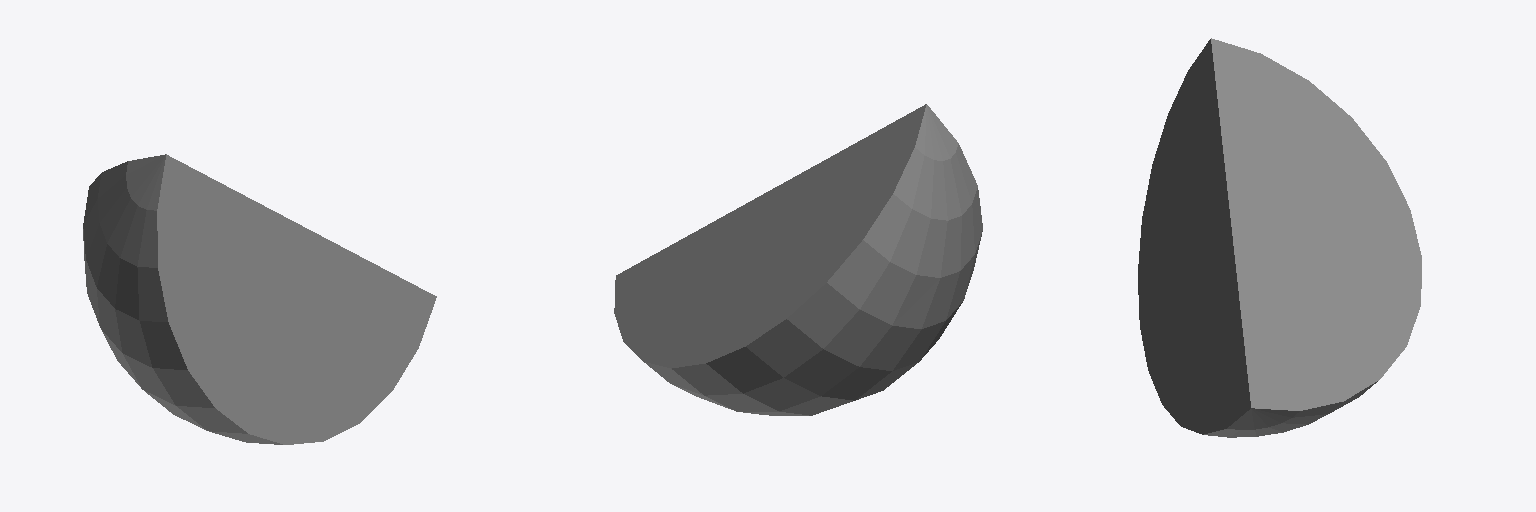
File: Watermelon.obj
3 renders of one model, left to right at view 1: azimuth 30°, elevation 25°; view 2: azimuth 150°, elevation 25°; view 3: azimuth 270°, elevation 25°, orthographic.
Visible parts, largest first — view 1: Inst3D20_RefRep.280; view 2: Inst3D20_RefRep.280; view 3: Inst3D20_RefRep.280.
Boxes of the visible parts, box(x1,y1,x2,y2) form: Inst3D20_RefRep.280: box(83, 154, 436, 444); Inst3D20_RefRep.280: box(614, 104, 982, 415); Inst3D20_RefRep.280: box(1138, 38, 1421, 437).
Bounding box in the file's own units: 5.08 × 4.58 × 3.75.